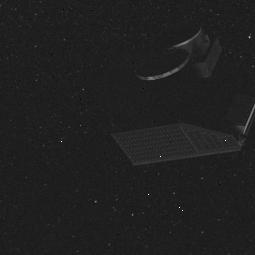cheops: (100, 27, 249, 160)
